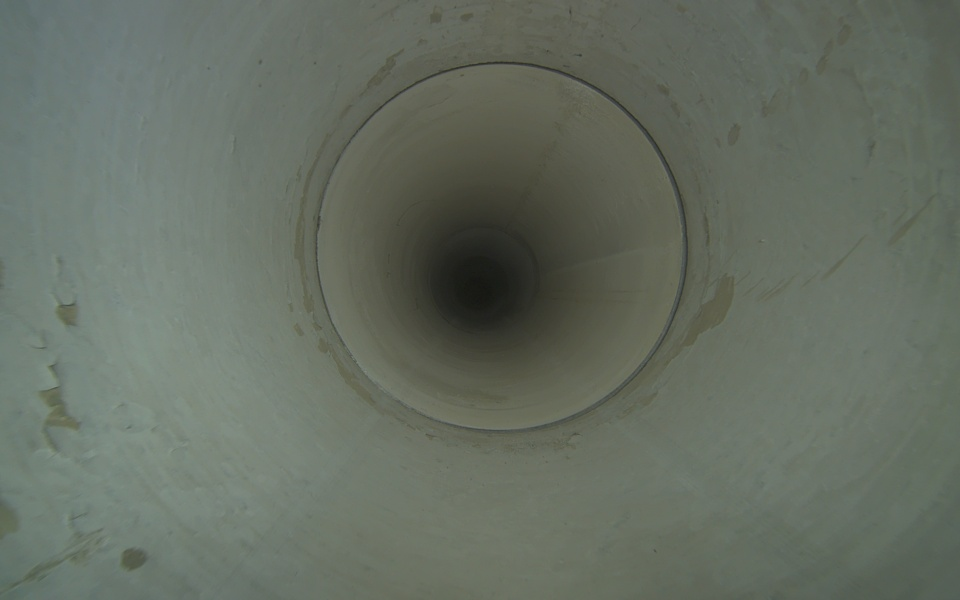circle1: (311, 59, 693, 438)
circle2: (459, 273, 496, 310)
